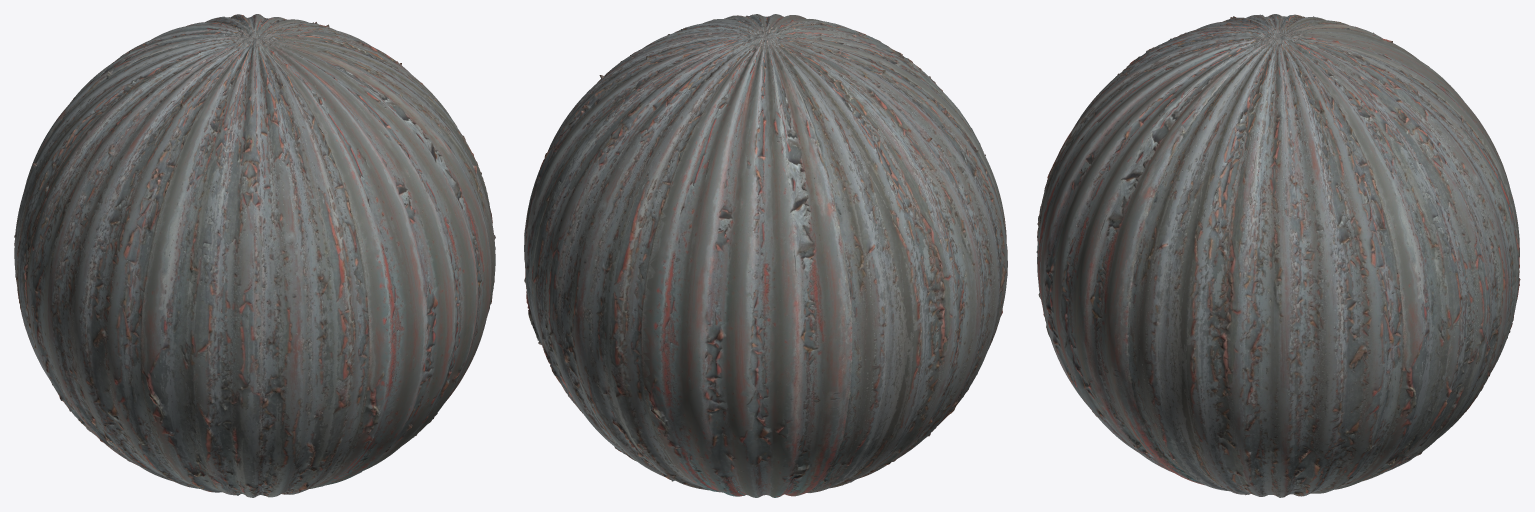
File: worn_corrugated_iron_1k.gltf
3 views of the same model, side by side, from view 1: azimuth 30°, elevation 25°; view 2: azimuth 150°, elevation 25°; view 3: azimuth 270°, elevation 25° (orthographic).
Visible parts, largest first — view 1: sphere_gltf; view 2: sphere_gltf; view 3: sphere_gltf.
Part boxes in pixels (x1,y1,x2,y2): sphere_gltf: [14, 14, 495, 497]; sphere_gltf: [524, 14, 1007, 497]; sphere_gltf: [1036, 14, 1520, 497].
Size of the model in its own units: 1.82 by 1.83 by 1.81.
Materials: 1 (1 with a texture image).
